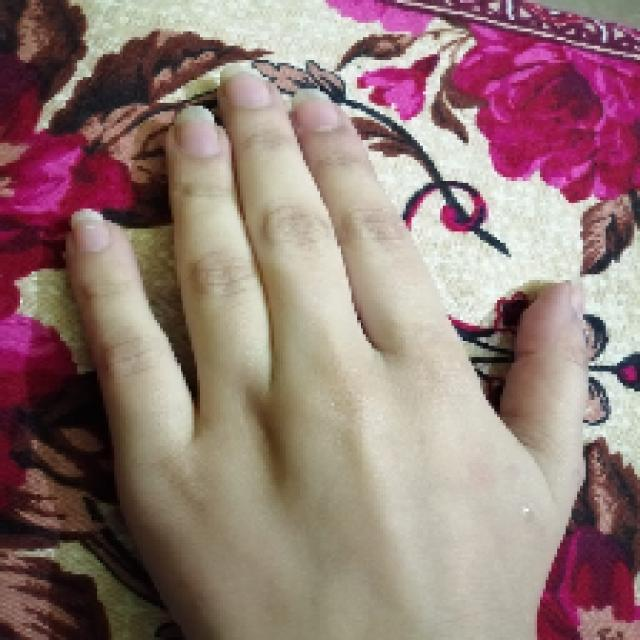Nail: (220, 61, 271, 109), (174, 106, 220, 158), (292, 89, 340, 131), (71, 210, 111, 252), (568, 282, 585, 317)
